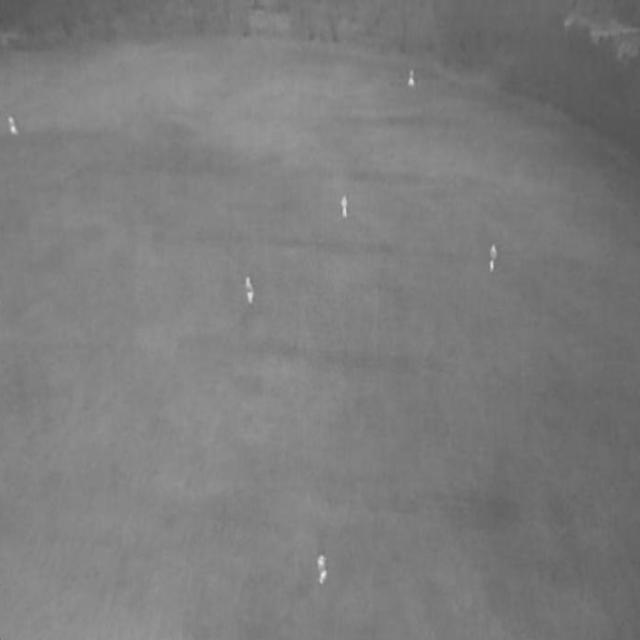person: (318, 550, 329, 586), (245, 277, 255, 307), (489, 245, 498, 276), (8, 116, 19, 137), (340, 196, 348, 221), (408, 67, 416, 90)
